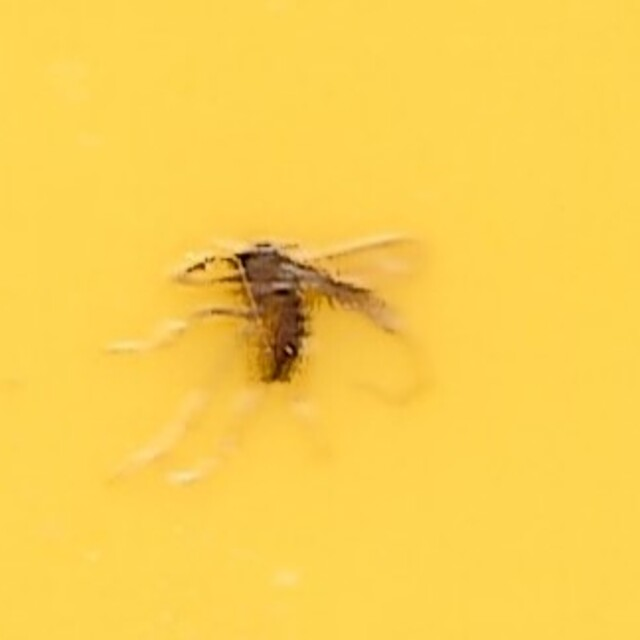Nematocera: (198, 229, 442, 411)
